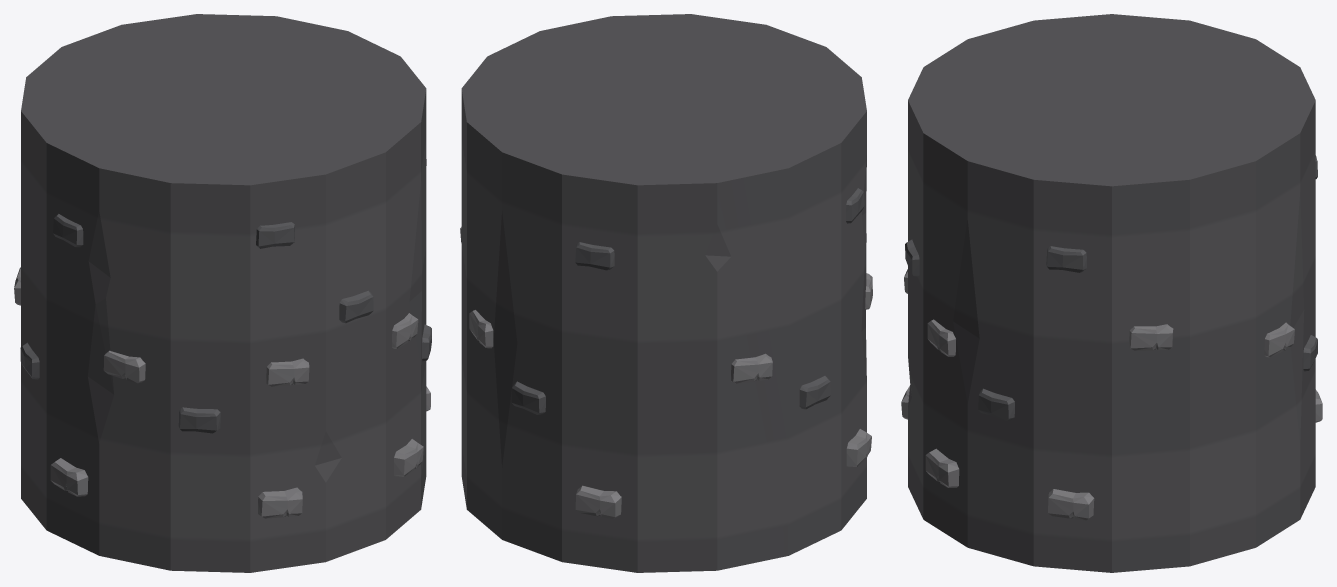
File: SM_Bld_Castle_Tower_Round_02.gltf
The picture shows the model from 3 angles, left to right: view 1: azimuth 30°, elevation 25°; view 2: azimuth 150°, elevation 25°; view 3: azimuth 270°, elevation 25°; orthographic projection.
Visible parts, largest first — view 1: SM_Bld_Castle_Tower_Round_02; view 2: SM_Bld_Castle_Tower_Round_02; view 3: SM_Bld_Castle_Tower_Round_02.
Part boxes in pixels (x1,y1,x2,y2): SM_Bld_Castle_Tower_Round_02: (14, 14, 431, 572); SM_Bld_Castle_Tower_Round_02: (460, 14, 872, 572); SM_Bld_Castle_Tower_Round_02: (901, 14, 1322, 572).
Size of the model in its own units: 2.97 by 3 by 2.97.
Materials: 1 (1 with a texture image).
